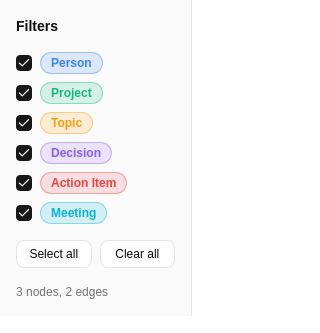
GraphPage › type filter toggle reduces node count
The width and height of the screenshot is (320, 333).
Expected: the text "3 nodes, 2 edges" is shown, [16,285,108,299]
Uncheck 'person' — Alice should be filtered out
Step 1. Click the checkbox named "person" → [24, 63], box [16,55,32,71]
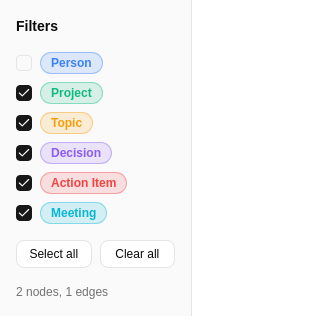
Now the text "2 nodes, 1 edges" is shown, box [16,285,108,299]
